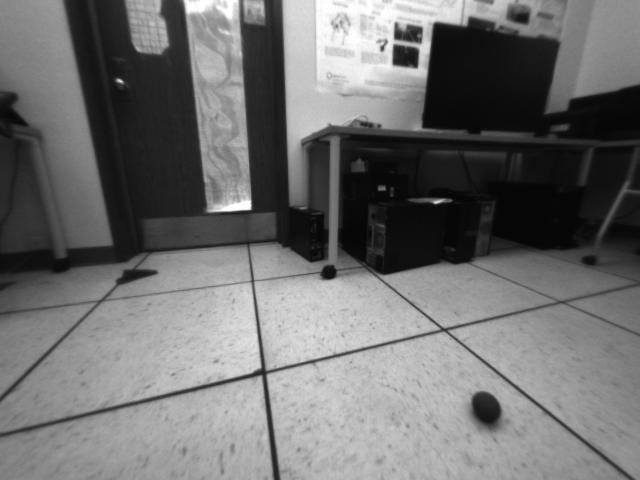dogtoy: (460, 385, 513, 436)
